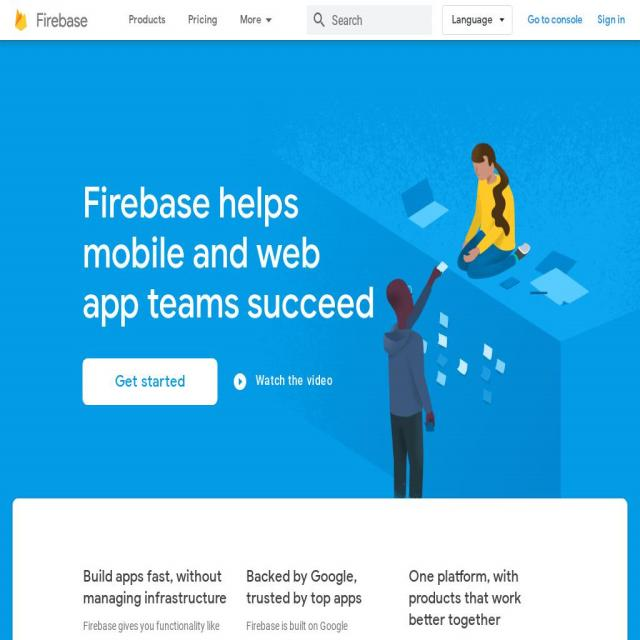language: (448, 5, 514, 37)
login-option: (595, 5, 626, 35)
navigation-links: (118, 5, 278, 33)
search: (305, 4, 441, 38)
